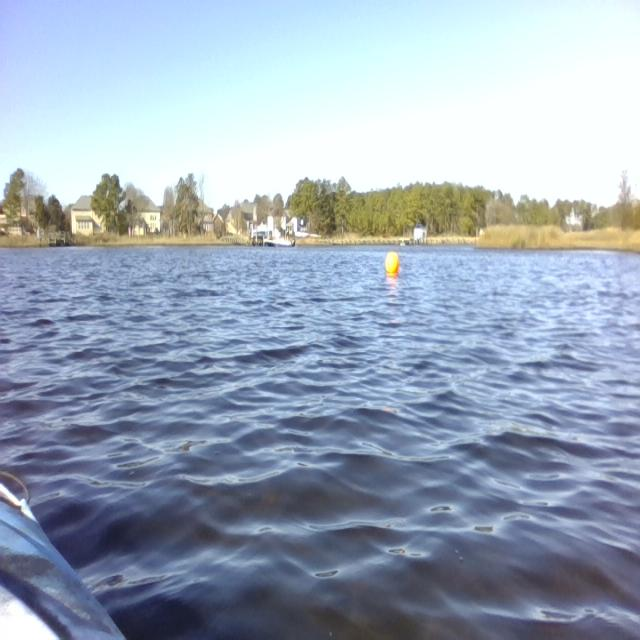Buoy: (377, 246, 403, 284)
